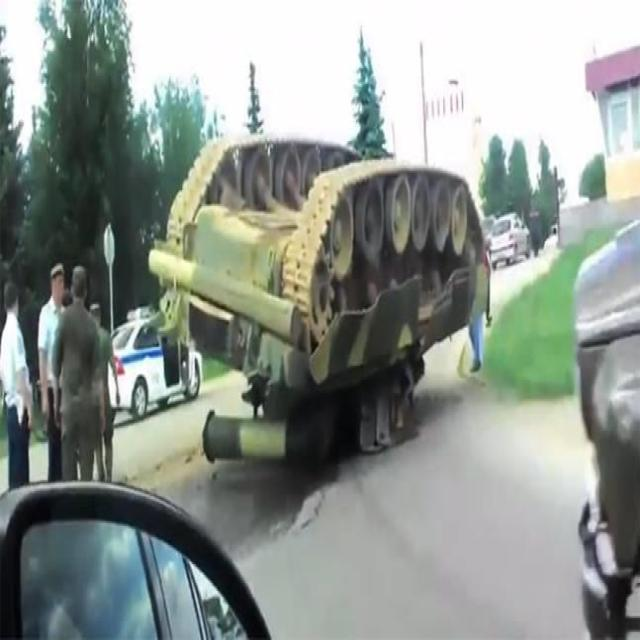Tanks: (145, 127, 504, 456)
